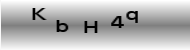4: (109, 15, 125, 29)
H: (83, 20, 97, 34)
K: (32, 7, 47, 21)
b: (54, 19, 69, 33)
q: (126, 10, 139, 24)
